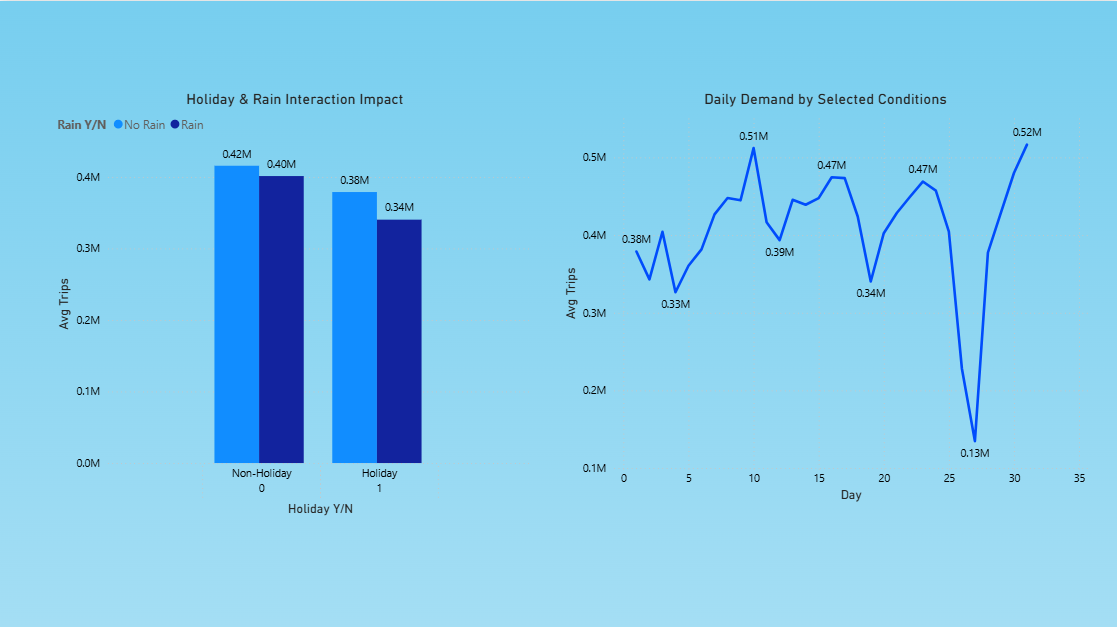

This screenshot's page, from the dashboard's own definition file:
{"tool":"powerbi","page":{"name":"Deep Dive","canvas":[1280,720],"ordinal":1},"visuals":[{"type":"clusteredColumnChart","title":"Holiday & Rain Interaction Impact","fields":{"Category":["taxi_daily_dashboard_dataset.holiday_flag","taxi_daily_dashboard_dataset.Holiday Y/N"],"Y":["taxi_daily_dashboard_dataset.Avg Trips"],"Series":["taxi_daily_dashboard_dataset.Rain Y/N"]},"box":[61,102,553.6,491.4],"z":0},{"type":"lineChart","title":"Daily Demand by Selected Conditions","fields":{"Category":["taxi_daily_dashboard_dataset.date.Variation.Date Hierarchy.Day"],"Y":["taxi_daily_dashboard_dataset.Avg Trips"]},"box":[639.4,102,609.5,476.4],"z":1}]}

Visuals, with their boxes in screenshot pixels (x1, y1, x2, y2), scaled from the page's 1280x720 canvas onto the 1117x627 screenshot:
"Holiday & Rain Interaction Impact" clusteredColumnChart: bbox(53, 89, 536, 517)
"Daily Demand by Selected Conditions" lineChart: bbox(558, 89, 1090, 504)
